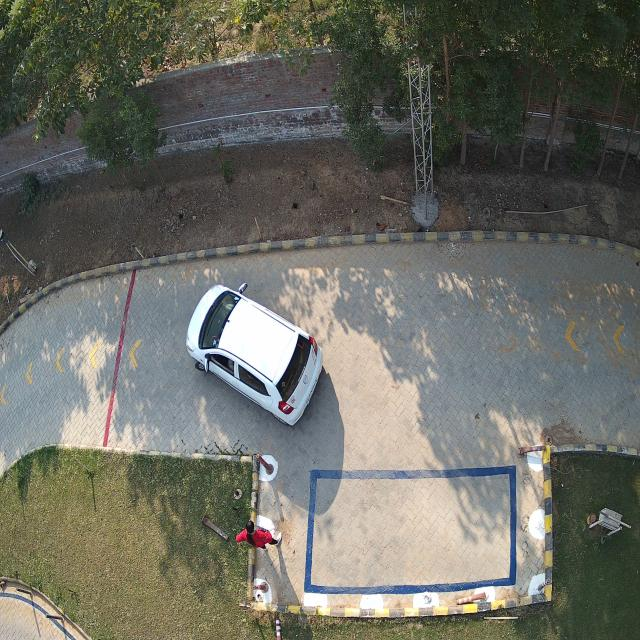car: (186, 287, 322, 425)
